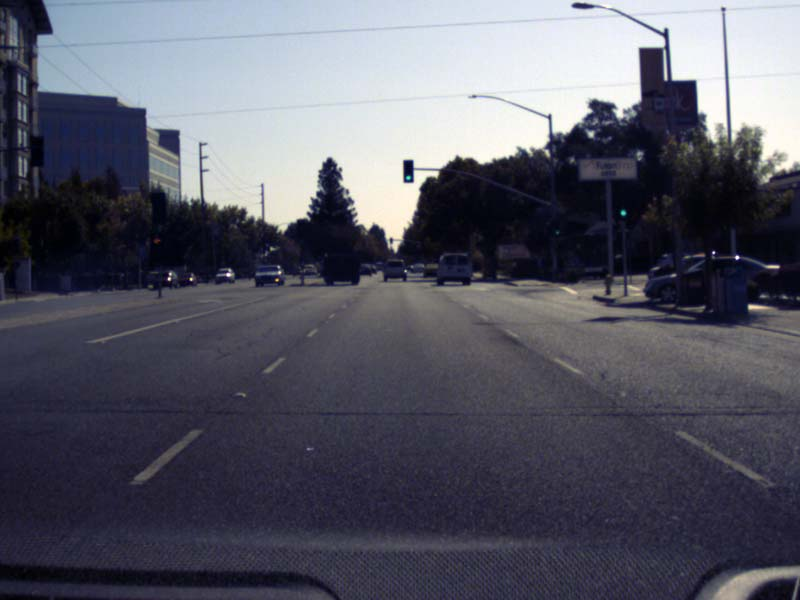Green: (403, 160, 413, 181), (552, 219, 560, 236), (618, 207, 627, 219)
Red: (150, 235, 161, 259)
